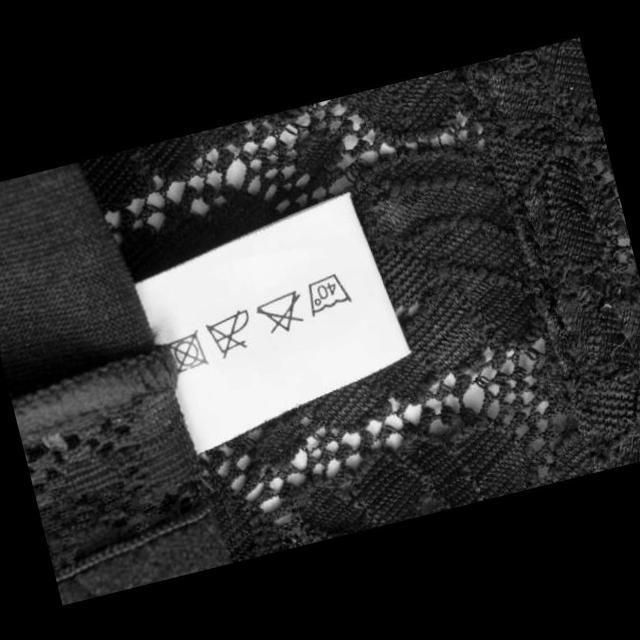40C: (298, 268, 354, 318)
DN_bleach: (250, 286, 308, 341)
DN_iron: (198, 304, 256, 362)
DN_tumble_dry: (158, 326, 210, 378)
